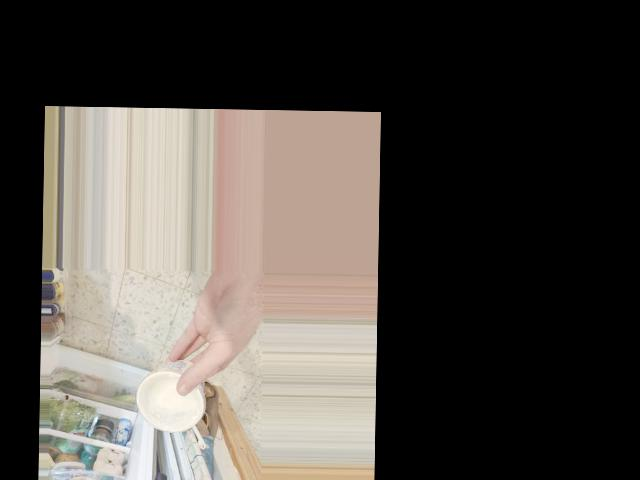cotage: (139, 355, 208, 441)
